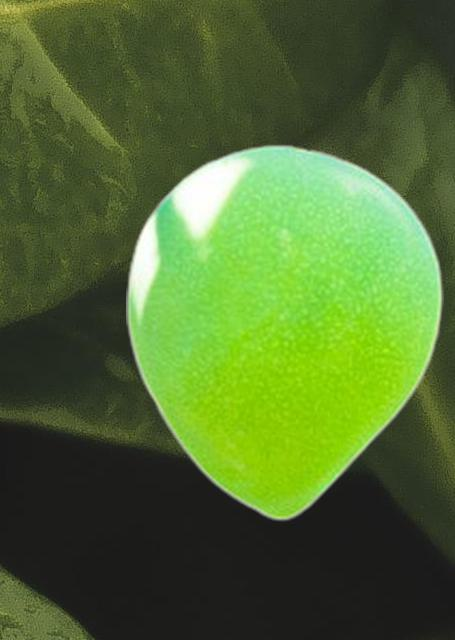green_mango: (126, 143, 442, 521)
